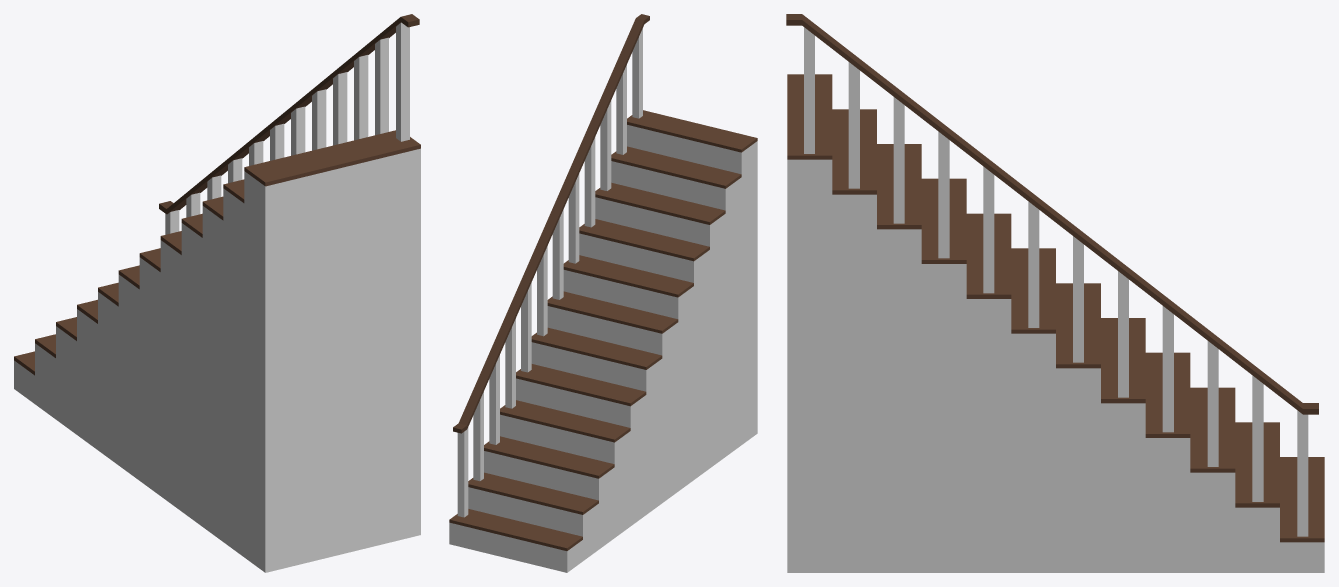
Rendered from Stairs3_C2.fbx.
3 renders of one model, left to right at view 1: azimuth 30°, elevation 25°; view 2: azimuth 150°, elevation 25°; view 3: azimuth 270°, elevation 25°, orthographic. The views are drawn at different scales.
Parts seen in each view (by area): view 1: Stairs3_C2; view 2: Stairs3_C2; view 3: Stairs3_C2.
Boxes of the visible parts, x1=… form: Stairs3_C2: x1=14, y1=14, x2=420, y2=572; Stairs3_C2: x1=449, y1=14, x2=757, y2=572; Stairs3_C2: x1=786, y1=14, x2=1324, y2=572.
Bounding box in the file's own units: 125 × 397 × 351.
